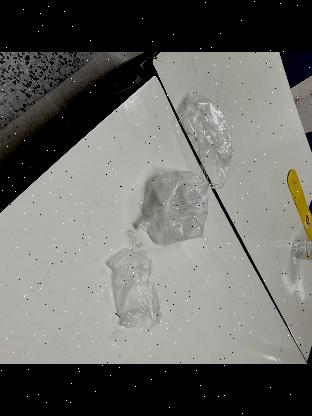Others: (181, 91, 249, 189), (136, 158, 212, 244), (108, 236, 162, 338)
